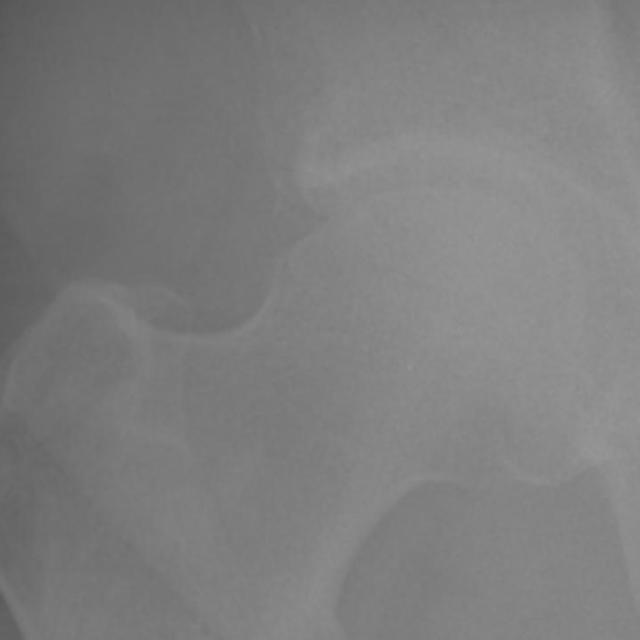Fitted_femural_head: (313, 182, 432, 313)
